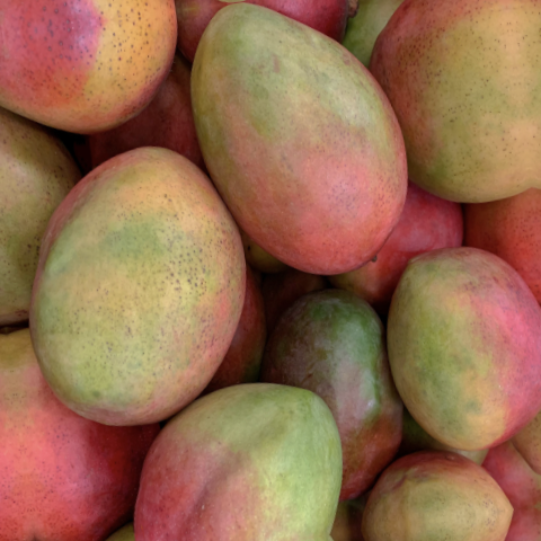mango: (137, 0, 472, 324), (0, 131, 275, 448), (117, 362, 376, 541), (366, 229, 541, 452)
